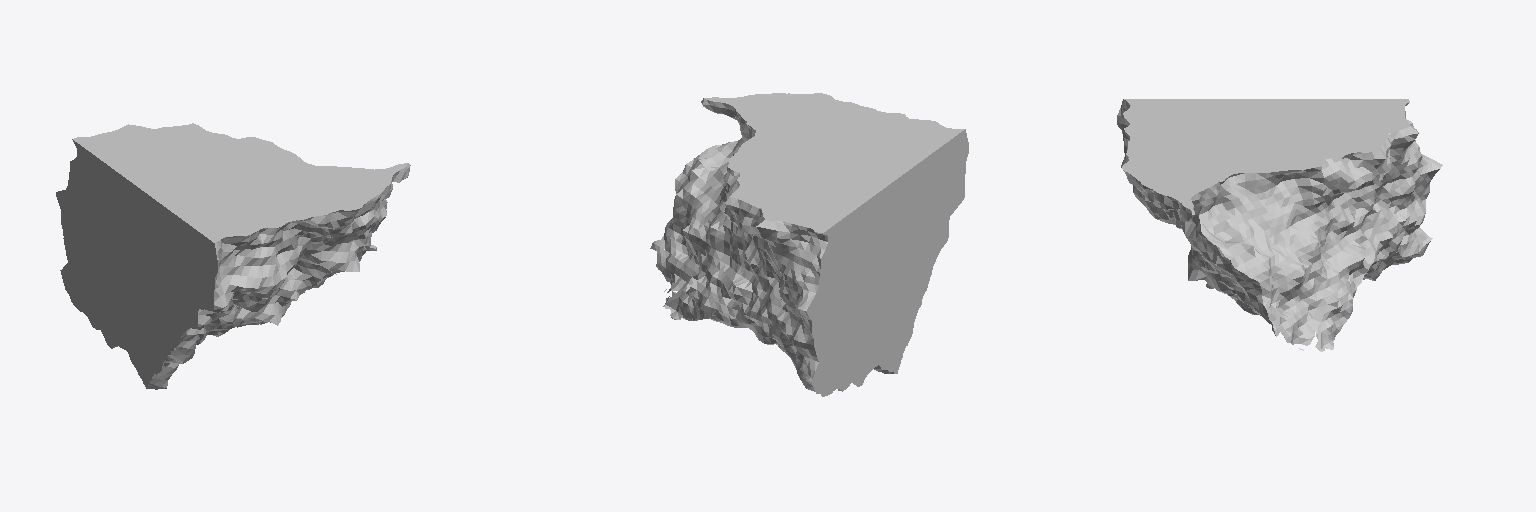
The model's file is cube_20_seed_4_shard.006.obj.
3 renders of one model, left to right at view 1: azimuth 30°, elevation 25°; view 2: azimuth 150°, elevation 25°; view 3: azimuth 270°, elevation 25°, orthographic.
Visible parts, largest first — view 1: Cube_shard.006_Cube_shard.146; view 2: Cube_shard.006_Cube_shard.146; view 3: Cube_shard.006_Cube_shard.146.
Part boxes in pixels (x1,y1,x2,y2): Cube_shard.006_Cube_shard.146: (56, 123, 410, 389); Cube_shard.006_Cube_shard.146: (650, 93, 968, 396); Cube_shard.006_Cube_shard.146: (1117, 99, 1442, 351).
Size of the model in its own units: 1.49 by 1.18 by 1.76.